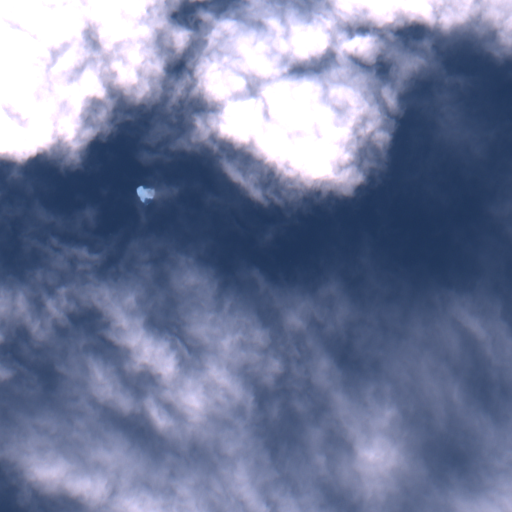Iceberg: (136, 186, 154, 202)
